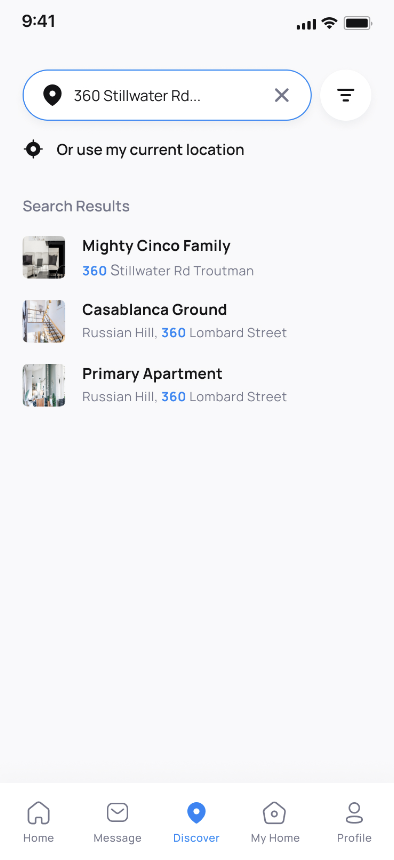IconButton: (319, 68, 375, 124)
